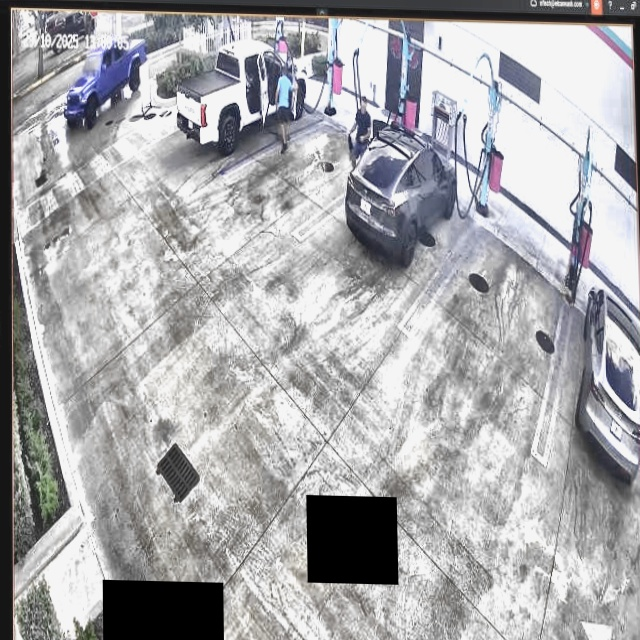Car: (342, 123, 458, 263)
